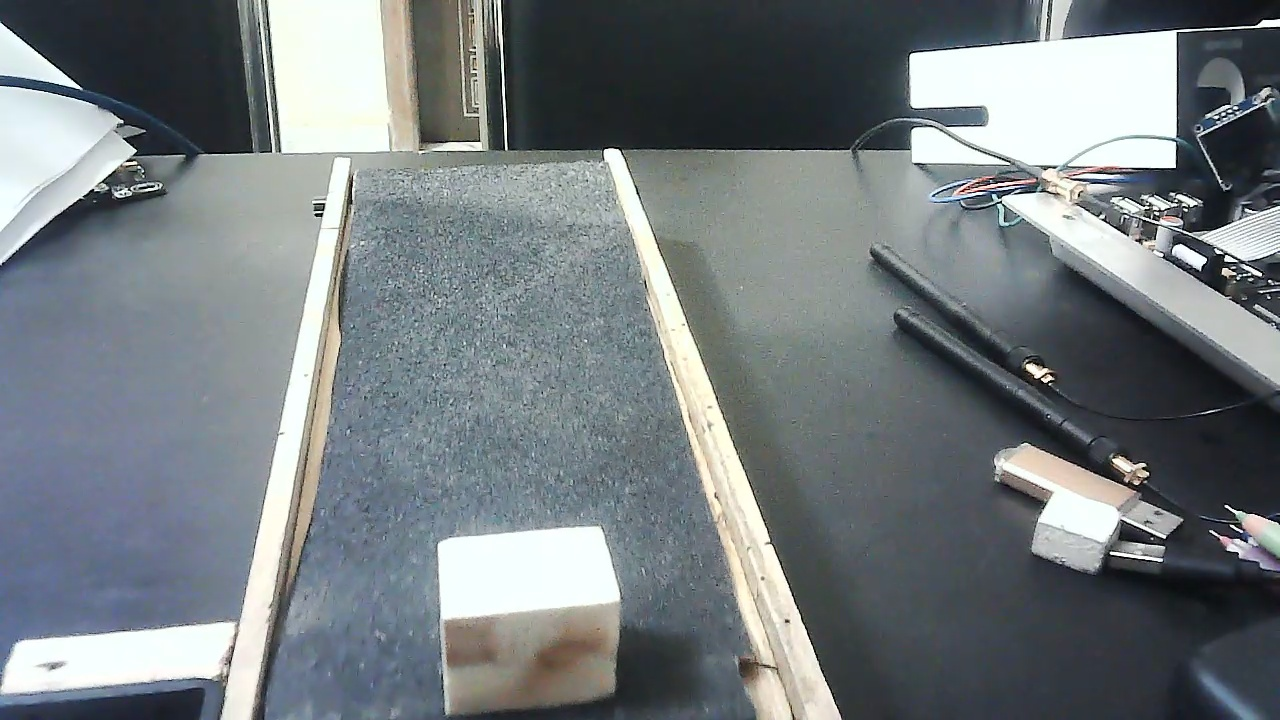Medium: (439, 527, 623, 712)
